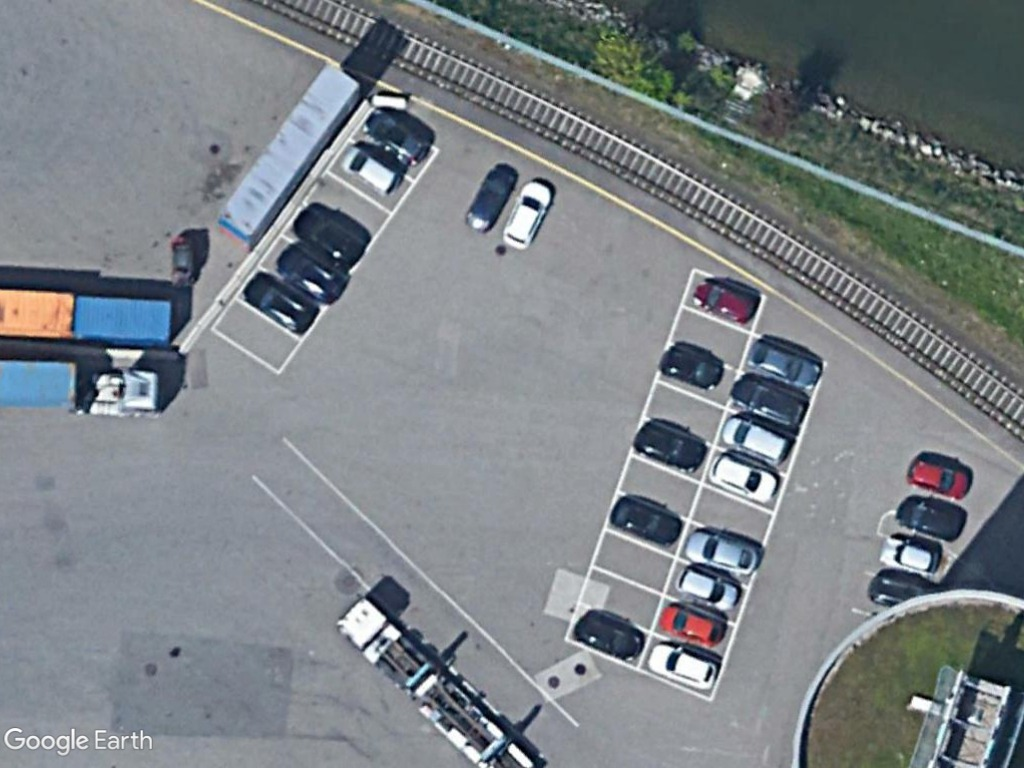car: (273, 239, 353, 304), (241, 274, 320, 339), (290, 208, 370, 268), (744, 335, 825, 393), (496, 177, 557, 252), (705, 449, 782, 505), (643, 640, 720, 696), (632, 419, 711, 473), (717, 413, 792, 468), (459, 168, 520, 235), (732, 376, 809, 428), (569, 612, 646, 663), (891, 494, 967, 544), (608, 495, 681, 547), (340, 147, 404, 206), (669, 562, 743, 613), (681, 528, 759, 576), (688, 273, 759, 325), (655, 343, 726, 393), (363, 115, 430, 167), (904, 456, 976, 501), (654, 604, 728, 647), (876, 531, 943, 576)
